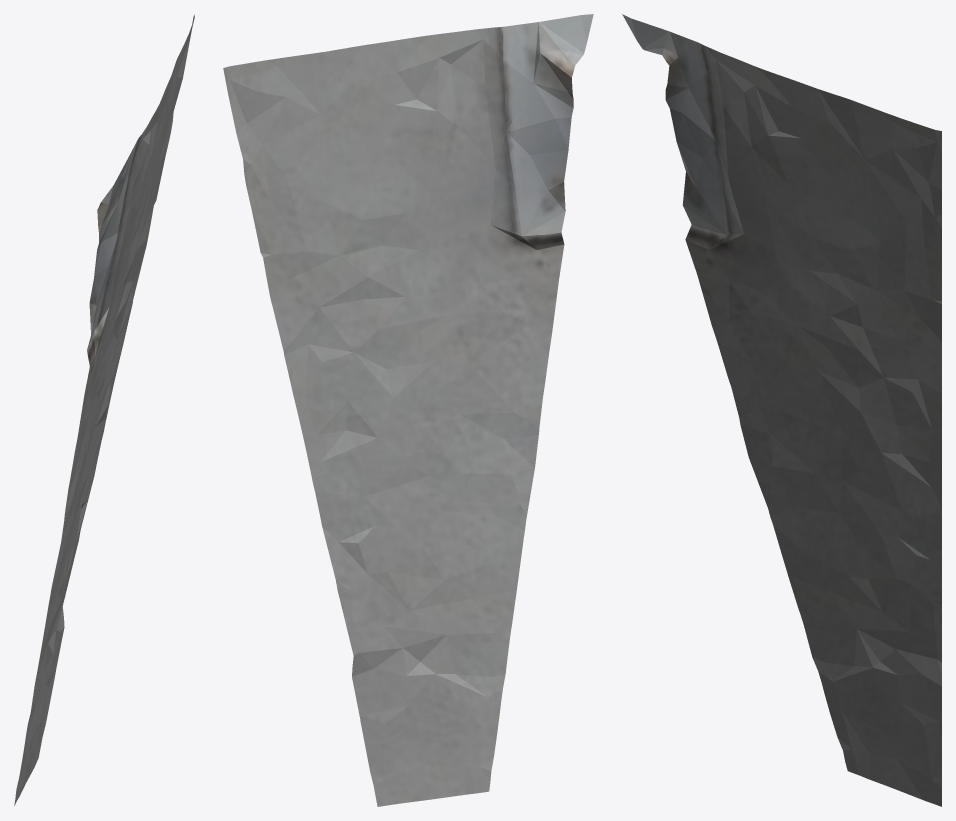
The picture shows the model from 3 angles, left to right: view 1: azimuth 30°, elevation 25°; view 2: azimuth 150°, elevation 25°; view 3: azimuth 270°, elevation 25°; orthographic projection. The views are drawn at different scales.
Size of the model in its own units: 0.2779 by 0.8374 by 0.3207.
Materials: 1 (1 with a texture image).
